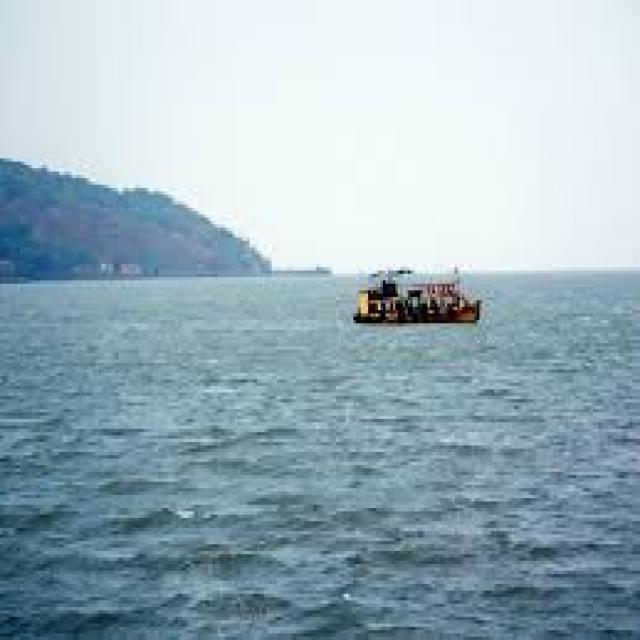houseboat: (343, 257, 472, 345)
island: (0, 142, 310, 271)
